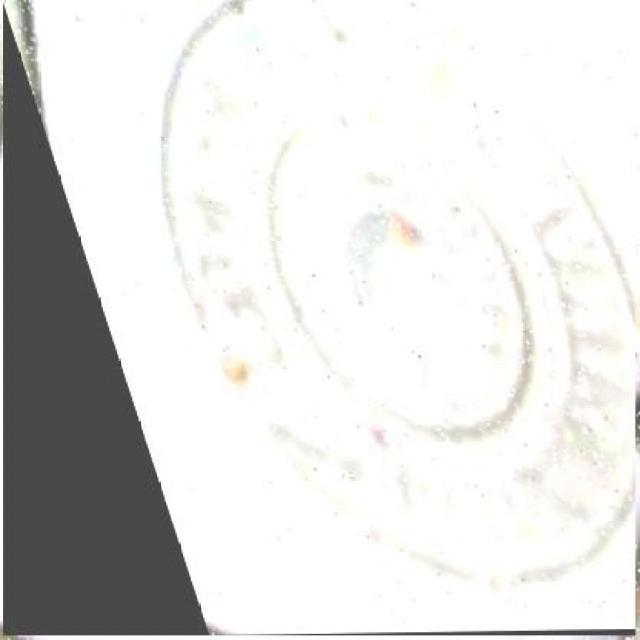Manhole: (2, 2, 636, 636)
